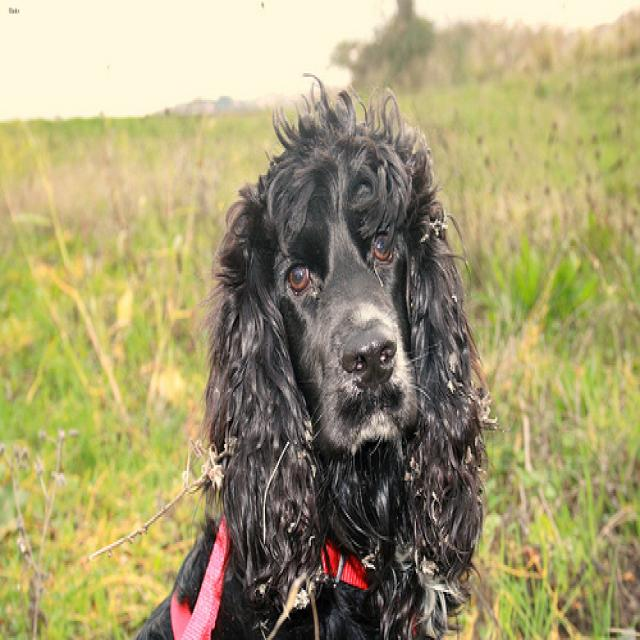dog-english_cocker_spaniel: (128, 60, 504, 636)
